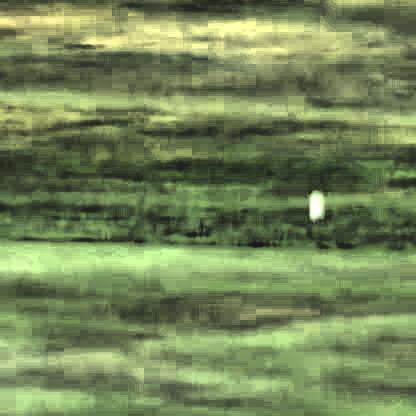golfball: (306, 187, 322, 215)
